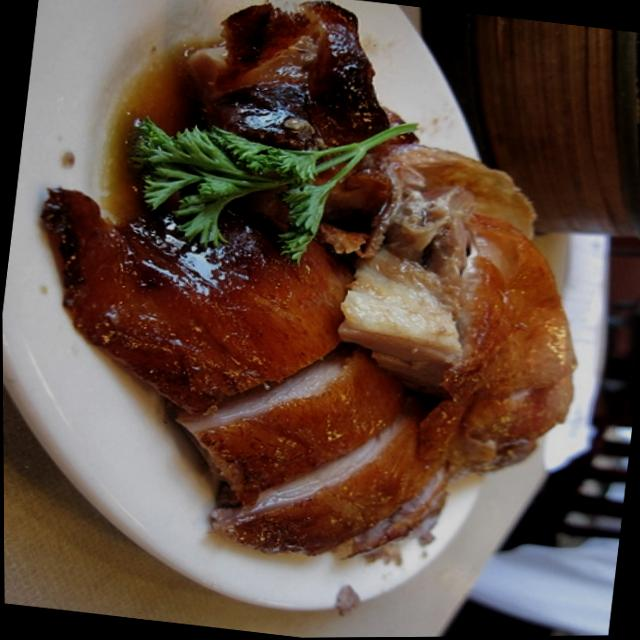烧串烤肉: (6, 0, 640, 616)
